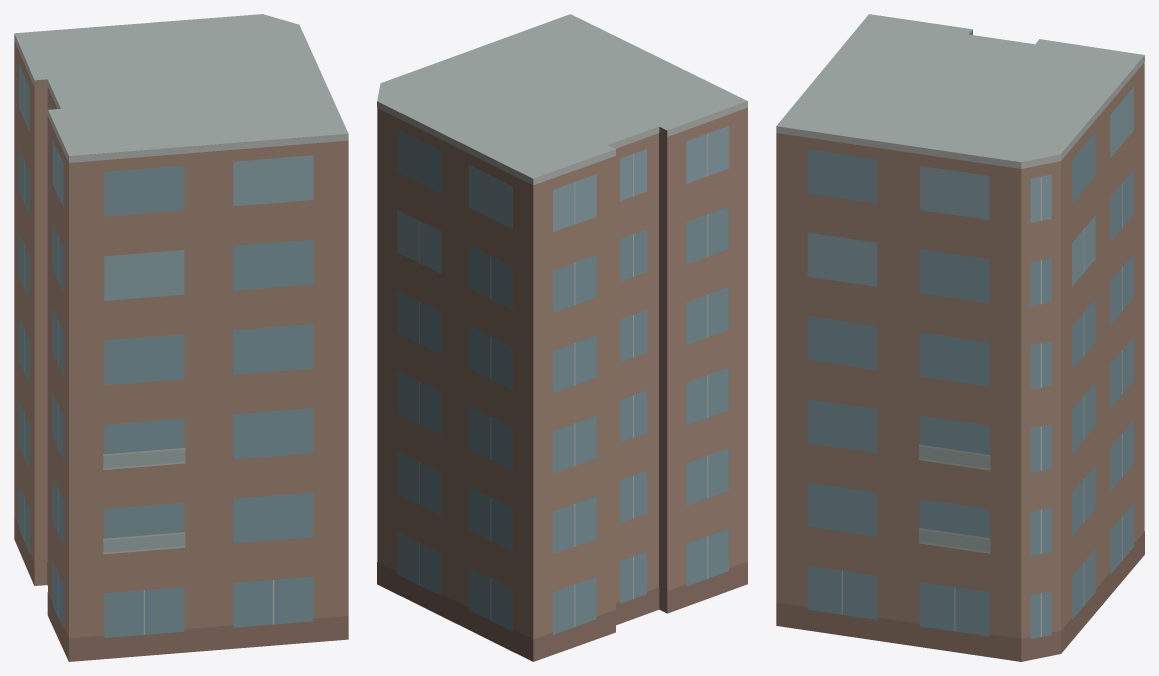
Rendered from survey-upis-32976609.glb.
The picture shows the model from 3 angles, left to right: view 1: azimuth 30°, elevation 25°; view 2: azimuth 150°, elevation 25°; view 3: azimuth 270°, elevation 25°; orthographic projection. The views are drawn at different scales.
Parts seen in each view (by area): view 1: survey-upis-32976609.tmp; view 2: survey-upis-32976609.tmp; view 3: survey-upis-32976609.tmp.
Boxes of the visible parts, x1,y1,x2,y2 form: survey-upis-32976609.tmp: (14,14,348,661); survey-upis-32976609.tmp: (377,14,747,661); survey-upis-32976609.tmp: (776,14,1144,661).
Bounding box in the file's own units: 11.53 × 18.1 × 12.11.
